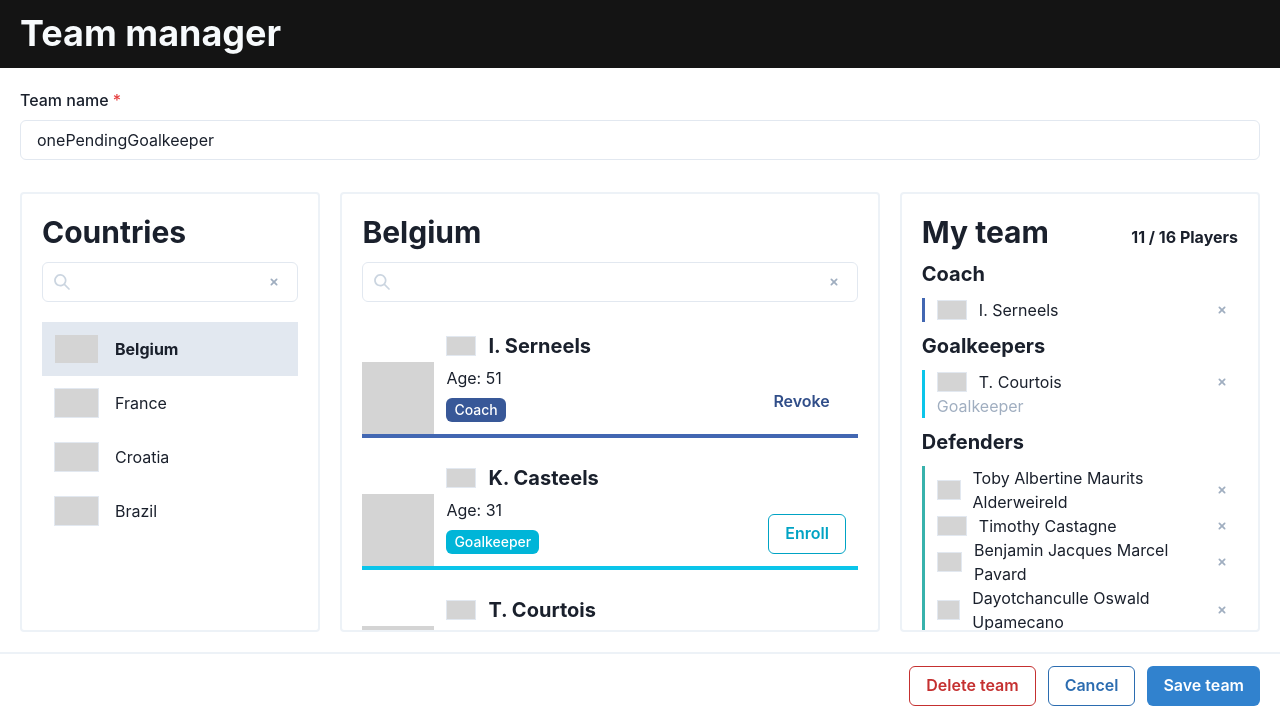
Test case: <ManagerPlayersList /> › given there are lineup requirement errors being displayed, when resolved this errors should be cleared
Expected: the heading "Belgium" is shown, [362,214,481,250]
Click the button "Save team" at (1204, 686), box [1147,666,1260,706]
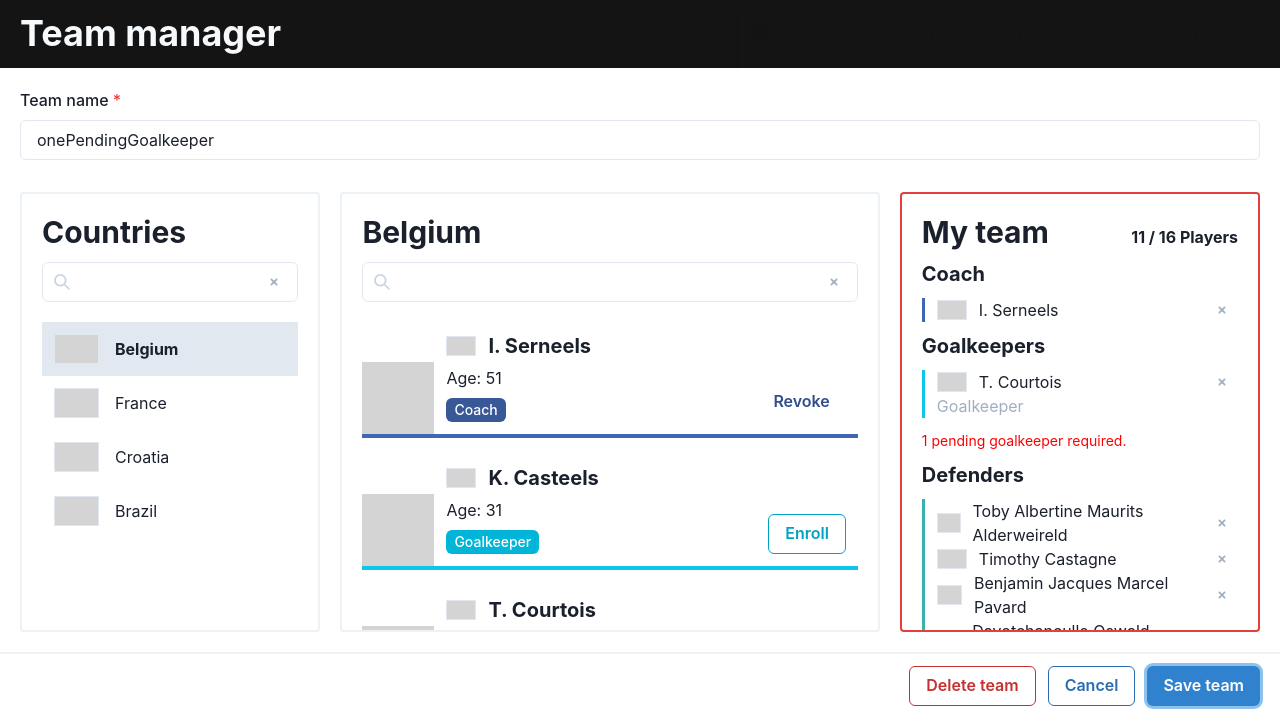
Expected: the text "1 pending goalkeeper required." is shown, [922,432,1126,449]
Click the button named "Enroll K. Casteels." at (807, 534), box [768,514,846,554]
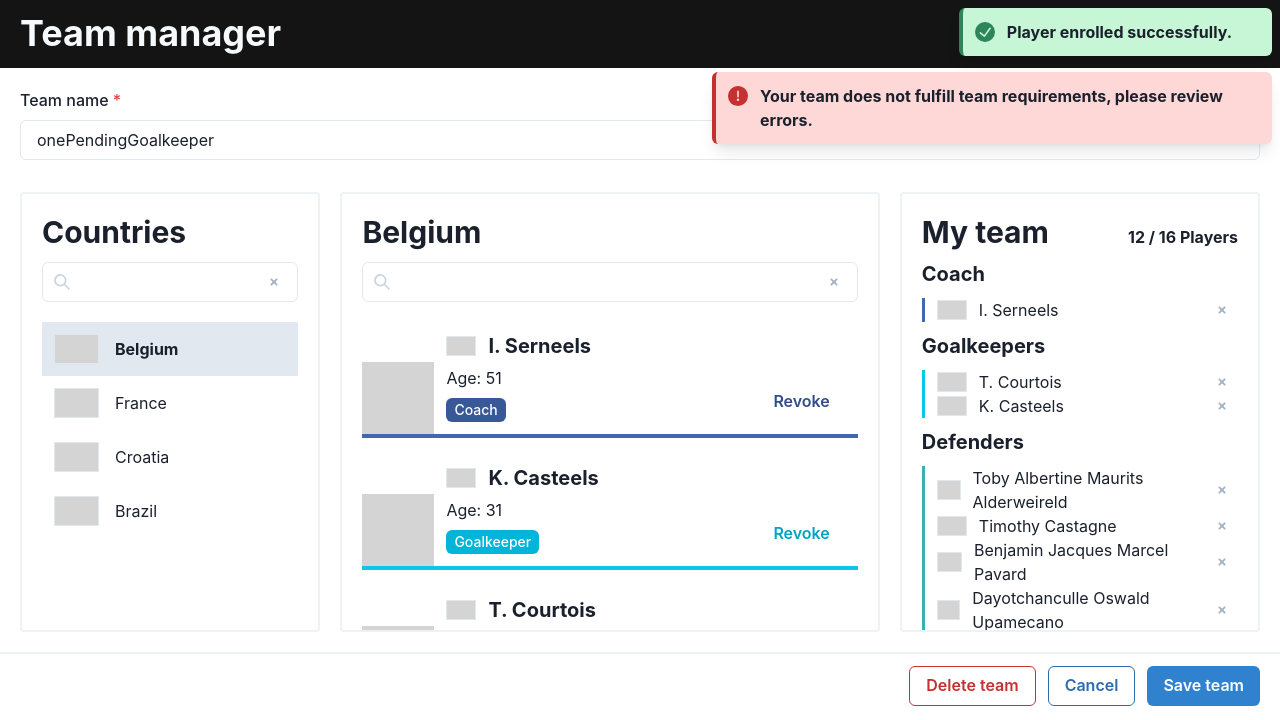
Expected: the text "1 pending goalkeeper required." is gone
